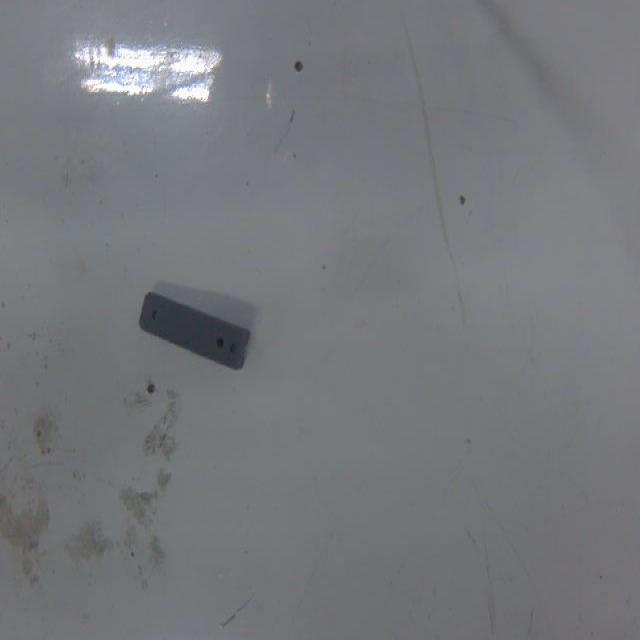grey: (138, 289, 254, 375)
head: (150, 308, 160, 324)
